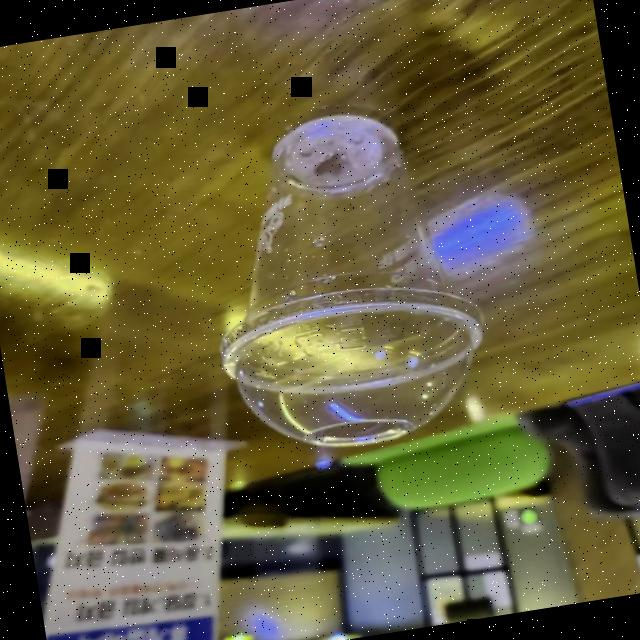plastic_cup_lid: (189, 267, 512, 477)
